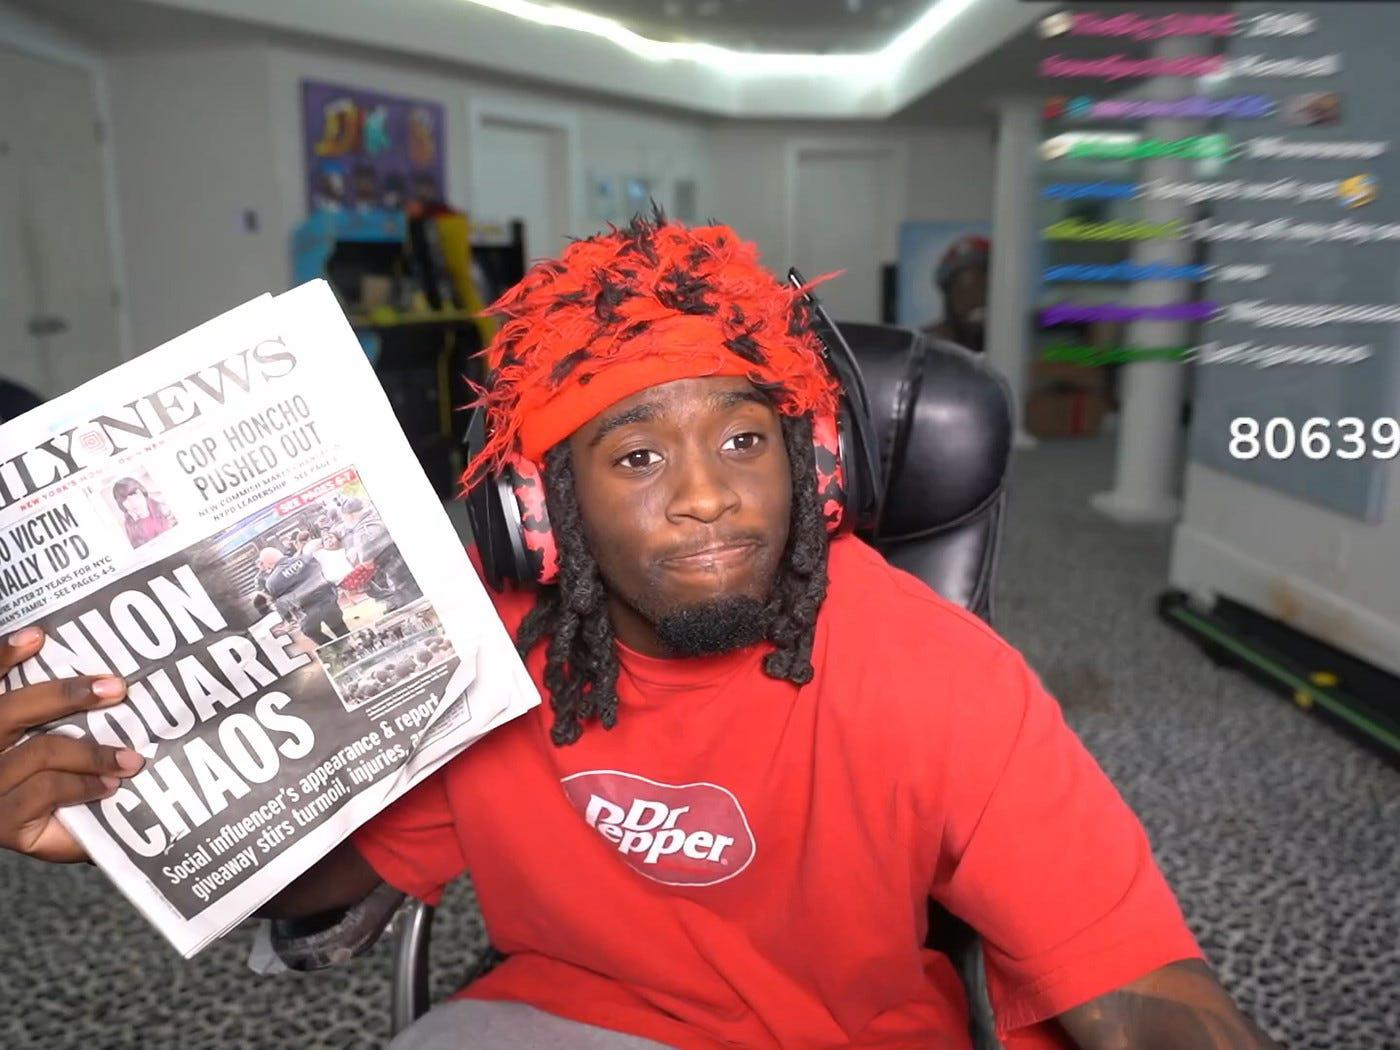kai-cenat: (551, 376, 815, 649)
